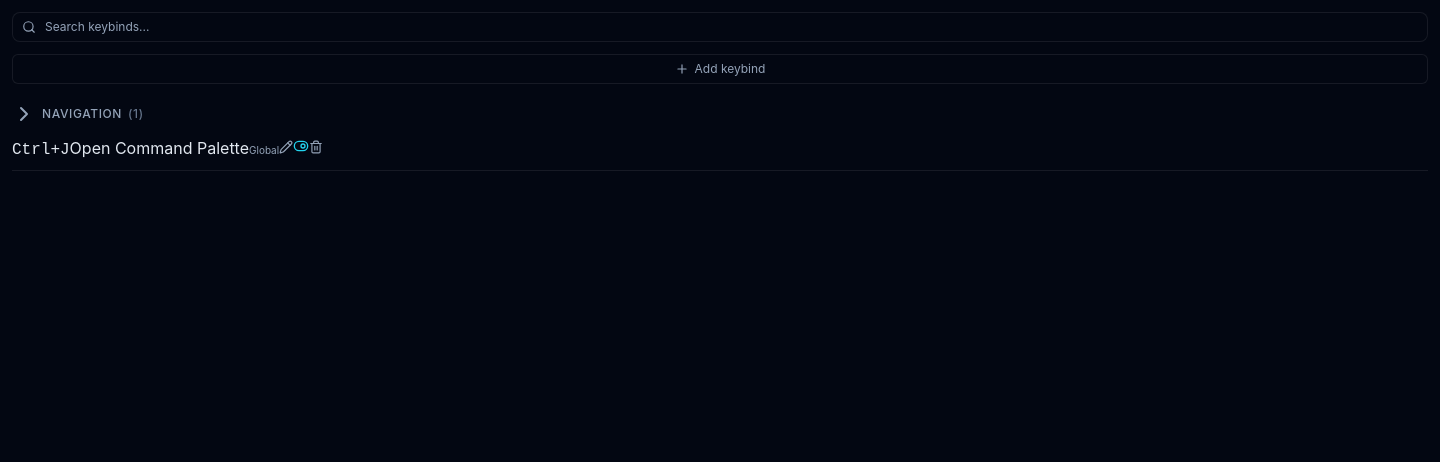
Test case: KeybindSettings › keystroke recorder › saves nothing and says so when the other binding cannot be removed
This screenshot has width=1440, height=462.
Click the button "Add keybind" at (720, 69), box [12, 54, 1428, 84]
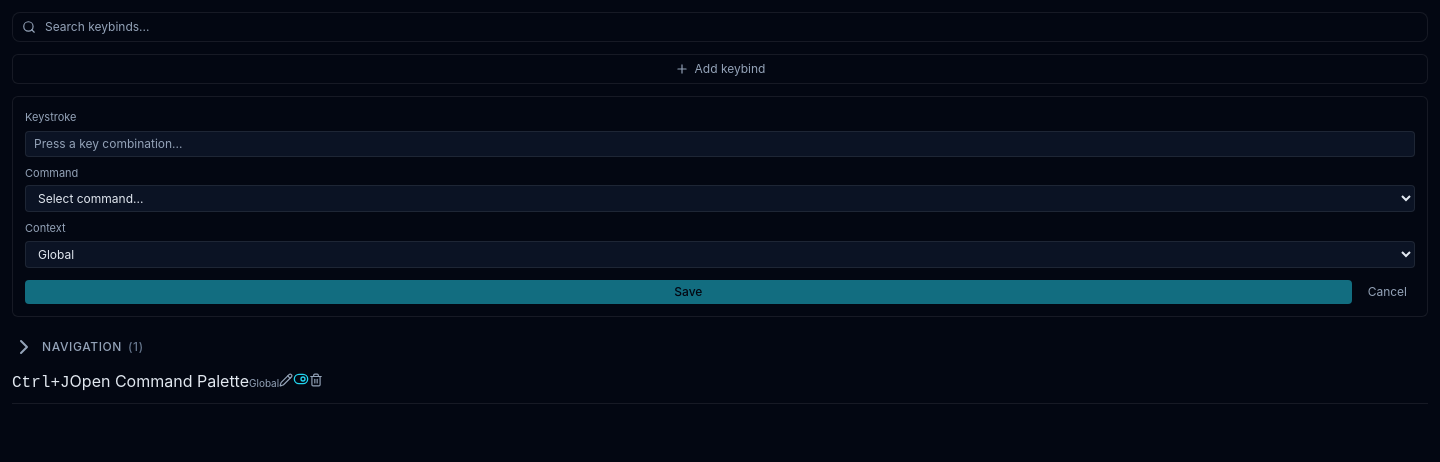
Press j in the field named "Keystroke", box [25, 130, 1415, 156]
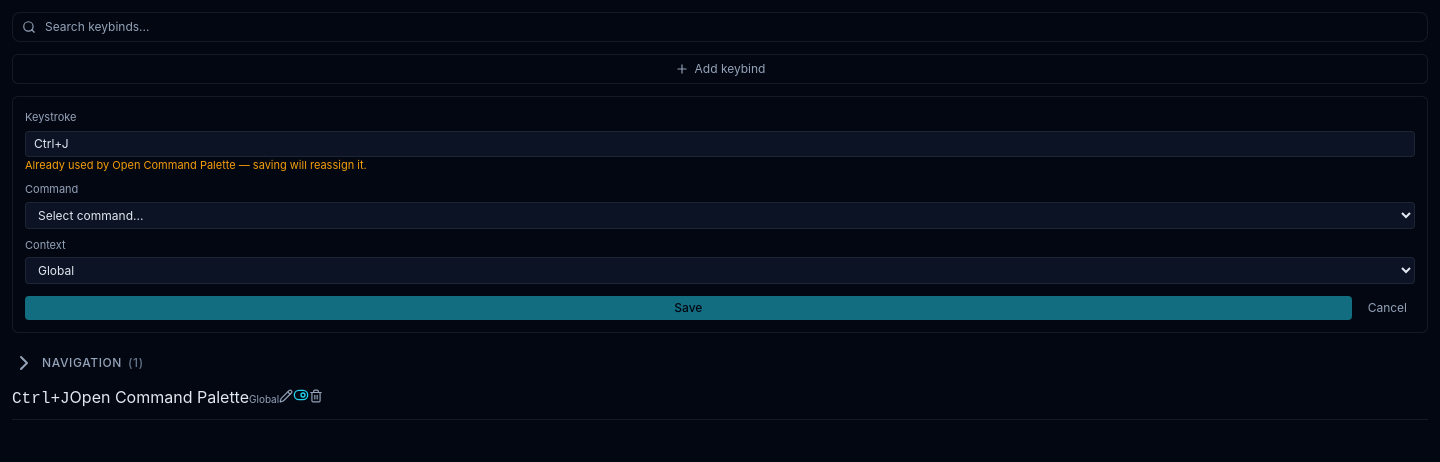
Select "Open Search" in the dropdown named "Command" at (720, 215), box [25, 202, 1415, 228]
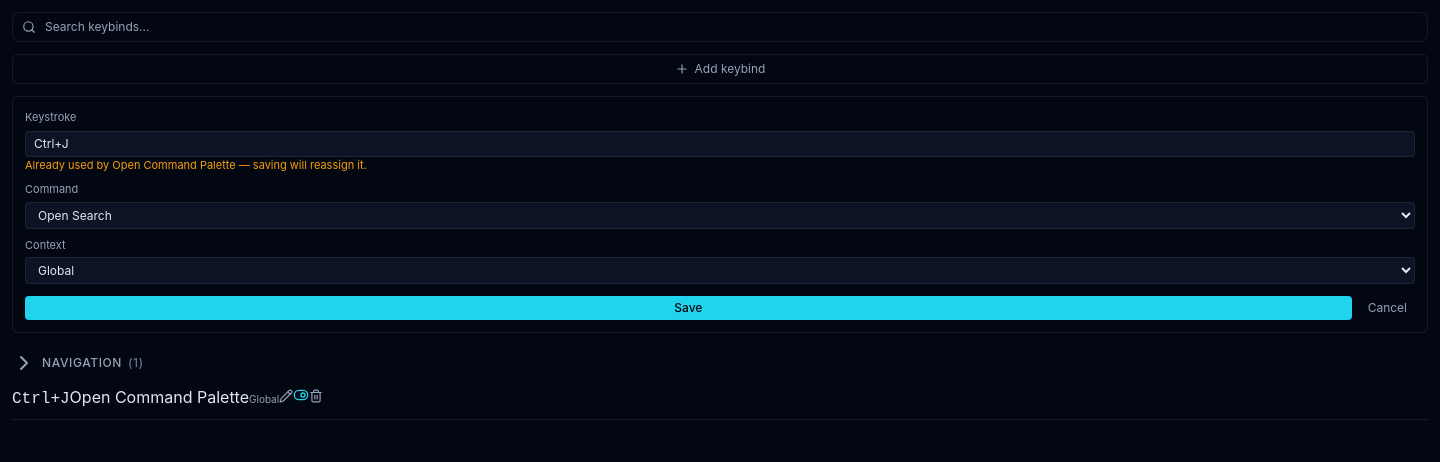
Click the button "Save" at (688, 308), box [25, 296, 1352, 320]
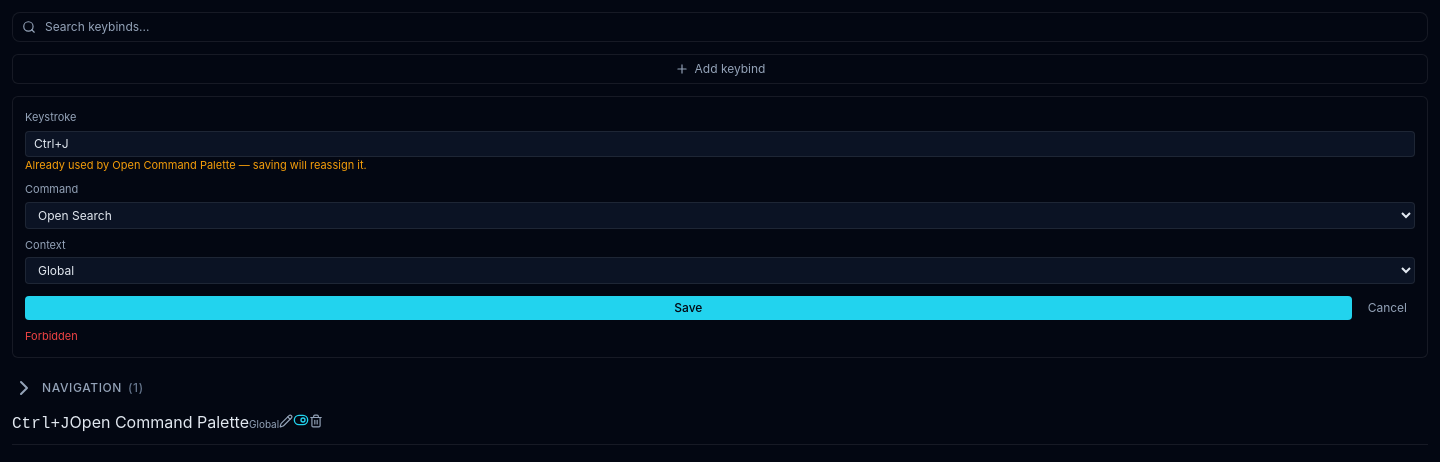
Now the text "Forbidden" is shown, box [25, 329, 78, 343]
